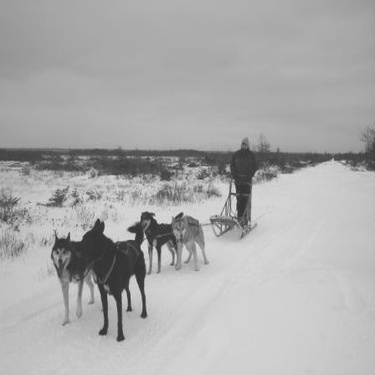dog: (76, 213, 155, 347), (42, 219, 102, 326), (122, 202, 190, 283), (161, 206, 214, 280)
